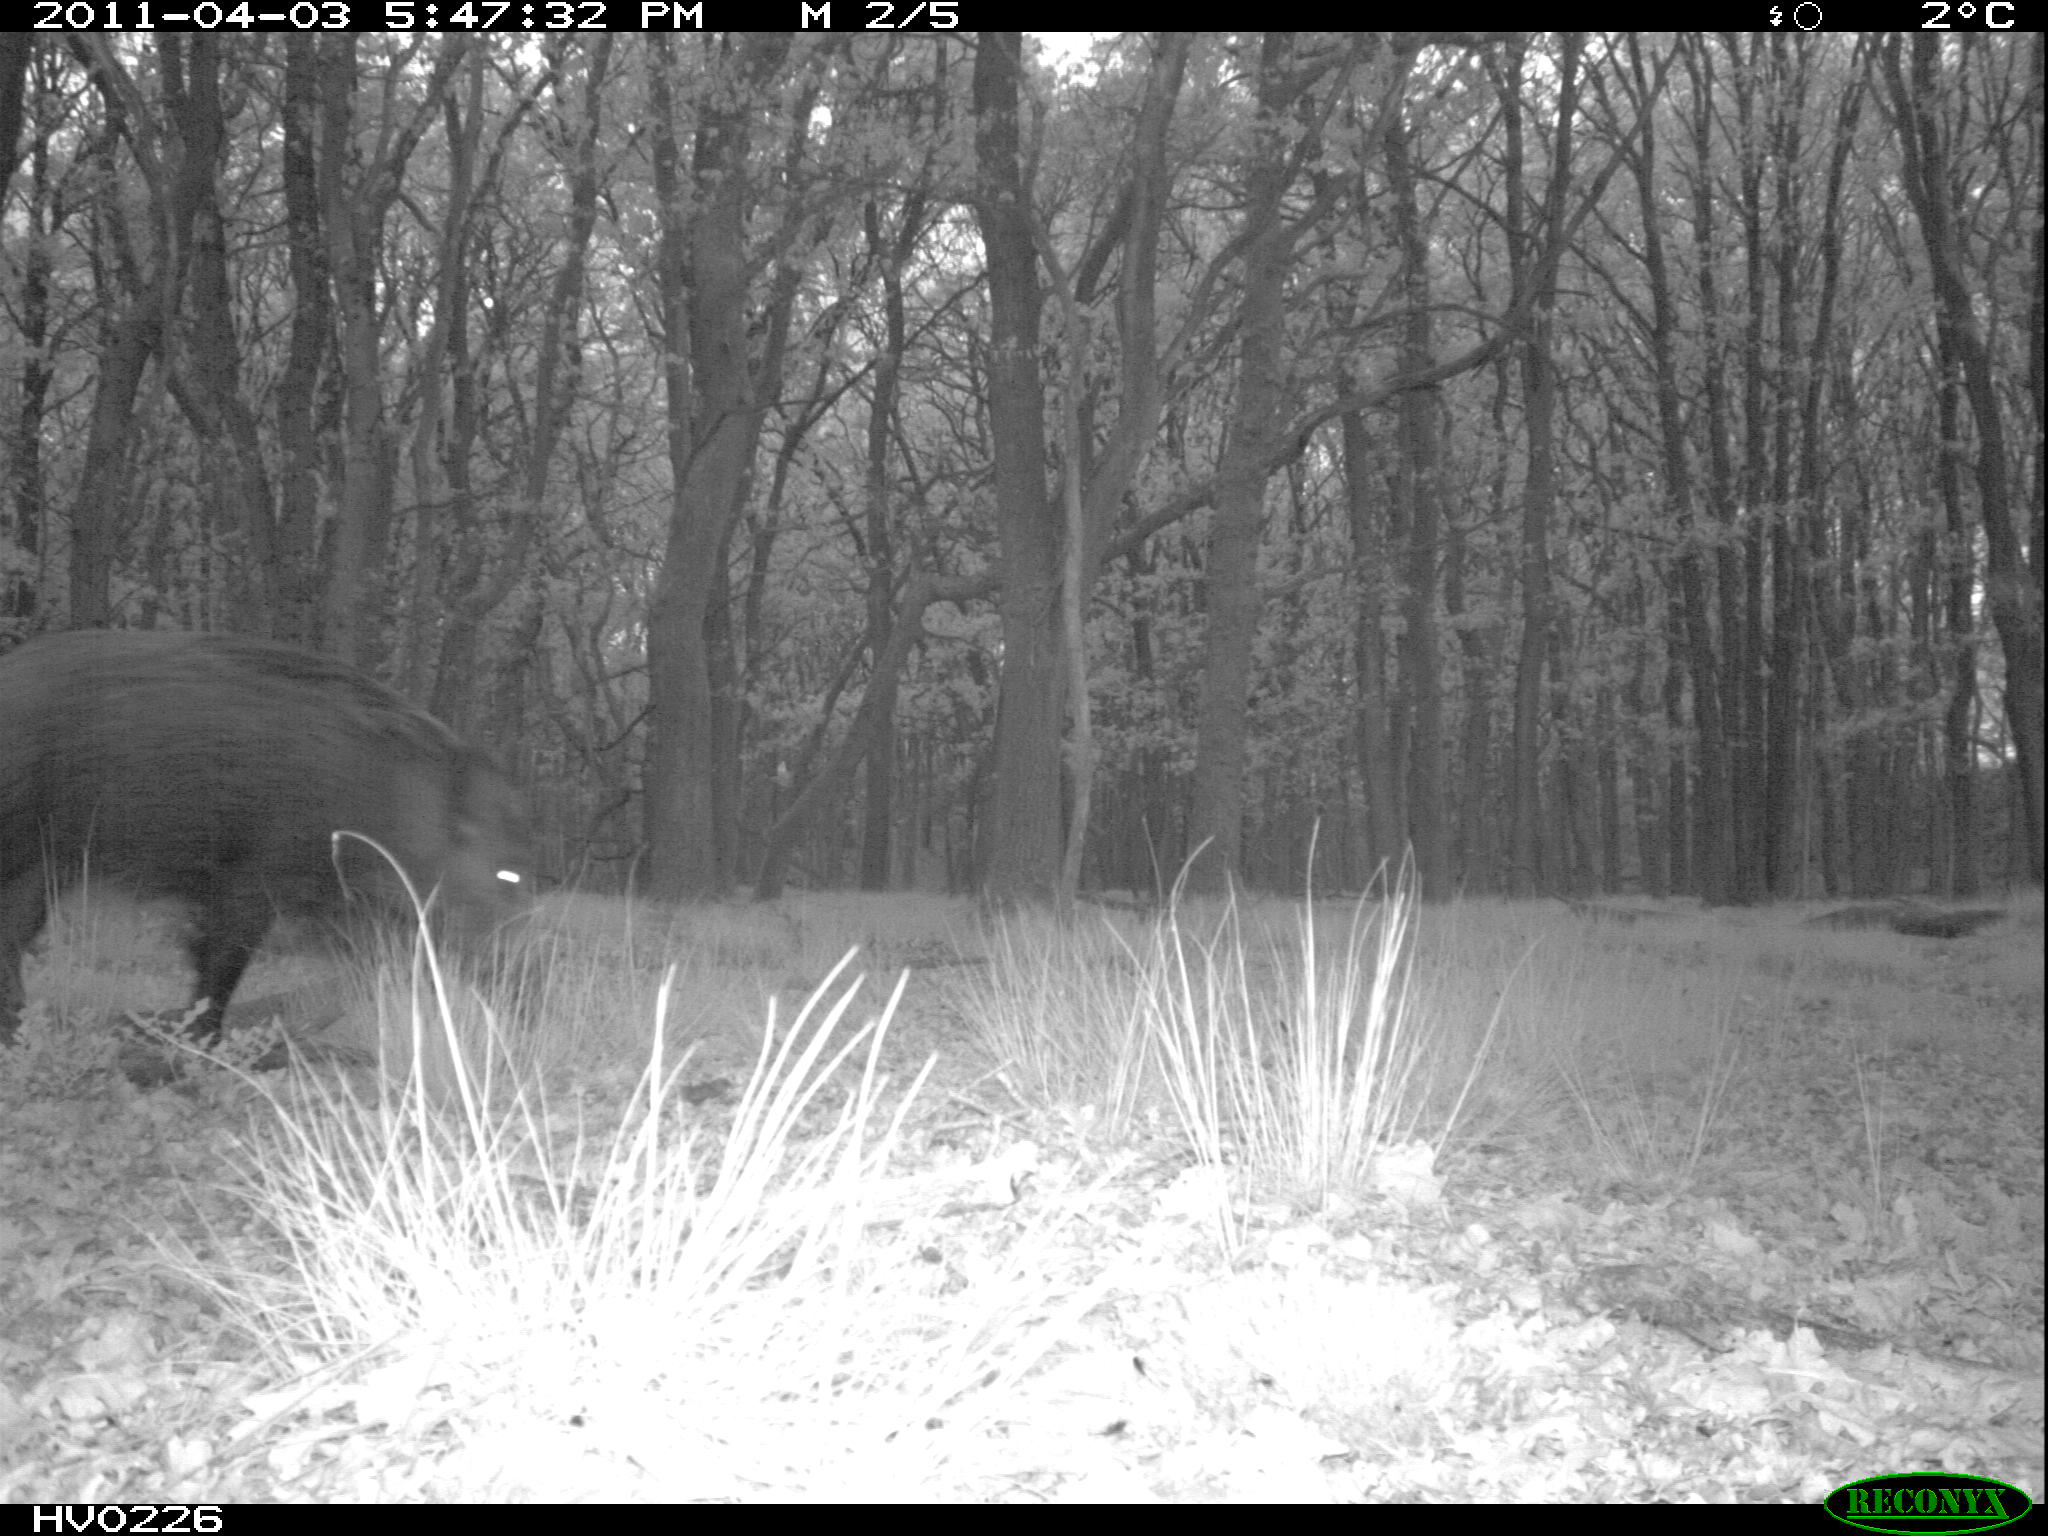Pig: (0, 623, 543, 1075)
